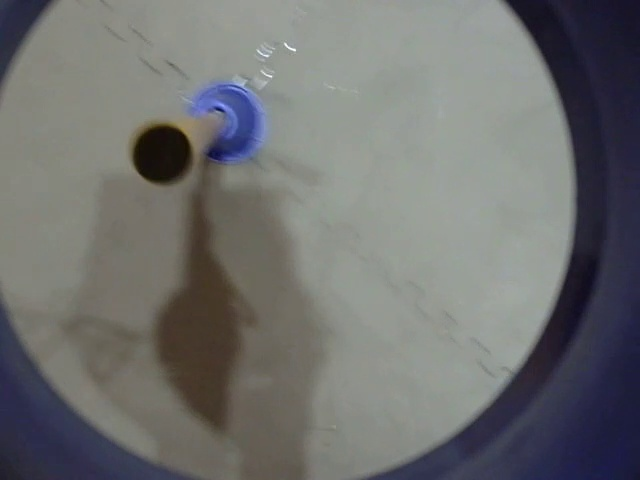tip: (129, 118, 200, 186)
